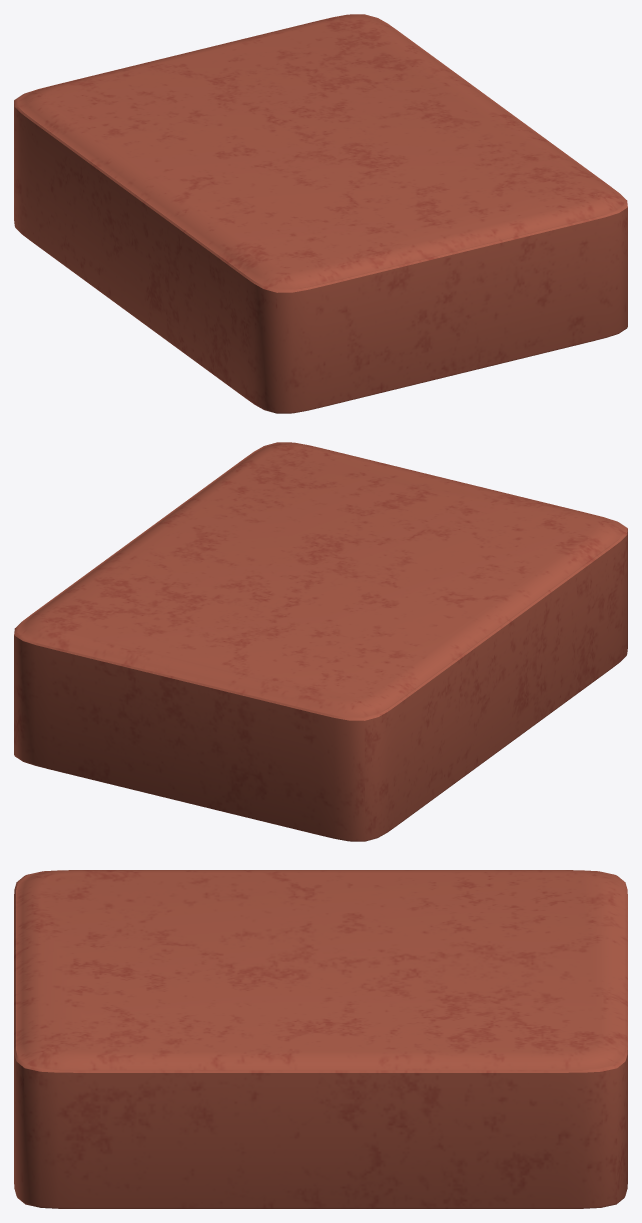
File: oblong-red.glb
The picture shows the model from 3 angles, top to bottom: view 1: azimuth 30°, elevation 25°; view 2: azimuth 150°, elevation 25°; view 3: azimuth 270°, elevation 25°; orthographic projection. The views are drawn at different scales.
Parts seen in each view (by area): view 1: Cobble Dobule; view 2: Cobble Dobule; view 3: Cobble Dobule.
Part boxes in pixels (x1,y1,x2,y2): Cobble Dobule: (14, 14, 627, 413); Cobble Dobule: (14, 442, 627, 841); Cobble Dobule: (14, 870, 627, 1208).
Size of the model in its own units: 0.1778 by 0.0603 by 0.2286.
1 material, 1 textured.
